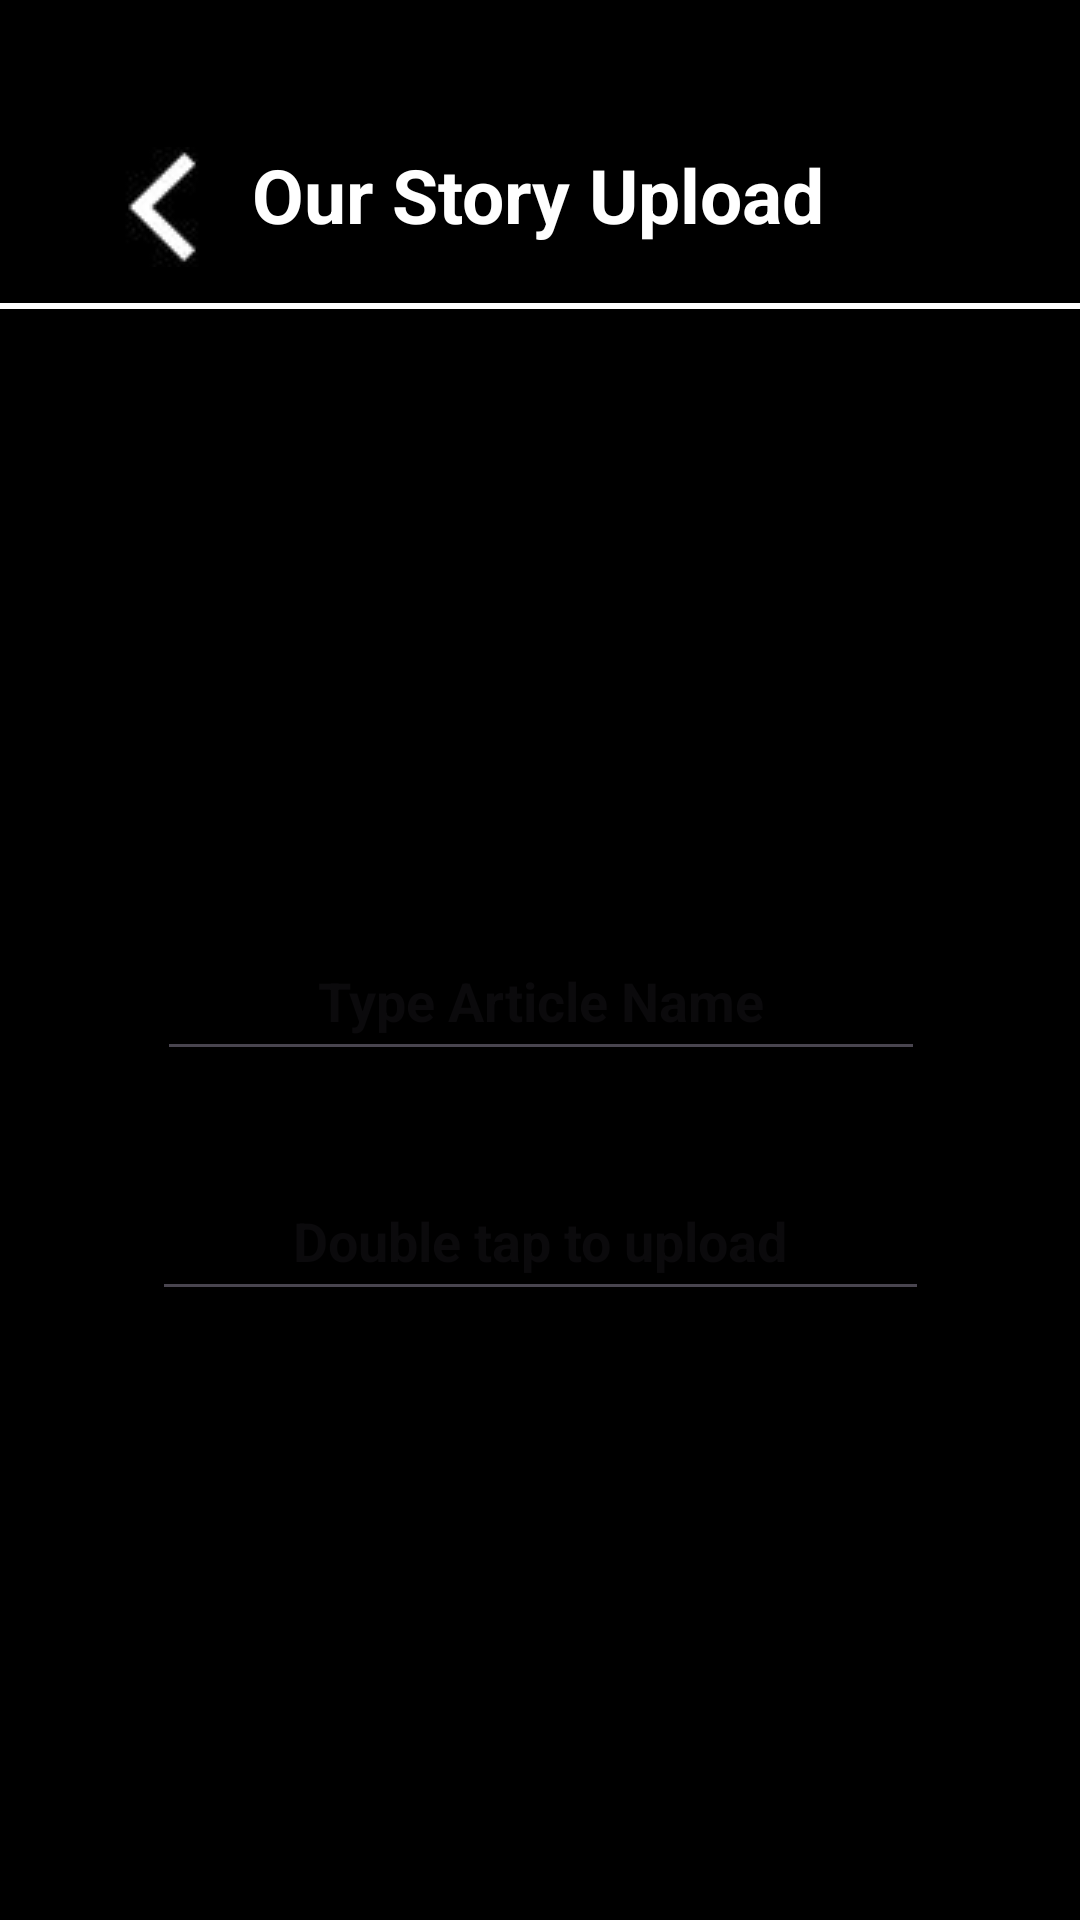

Icon click points for this 1080w x 1920h phone screenshot, format (x=x, y=y):
back: (x=162, y=207)
